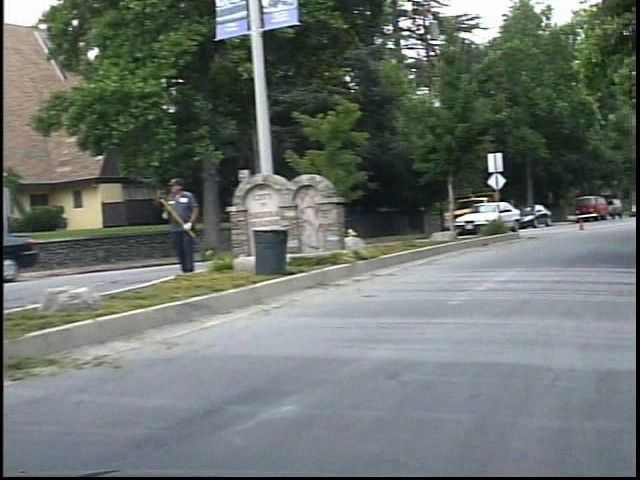person: (171, 171, 214, 276)
